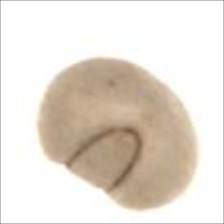L5: (63, 125, 145, 196)
L6: (36, 56, 202, 212)
